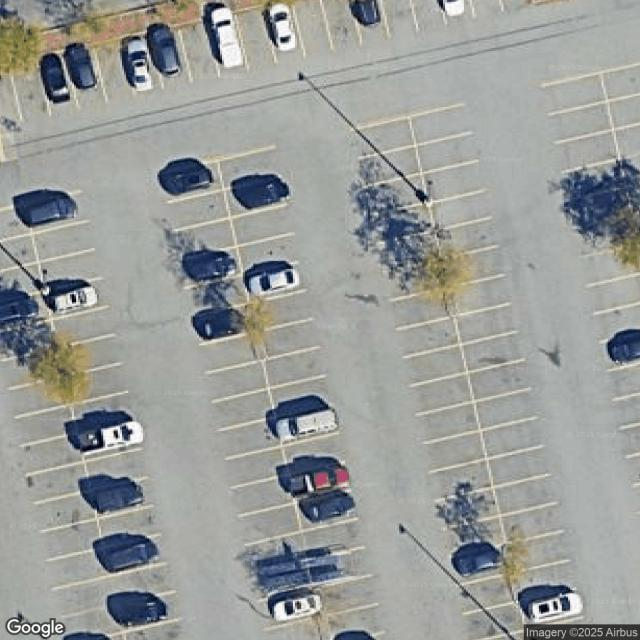car: (77, 420, 145, 456), (288, 463, 350, 501), (208, 6, 244, 70), (527, 590, 586, 628), (276, 407, 338, 443), (105, 537, 158, 574), (233, 175, 286, 211), (147, 22, 182, 76), (245, 267, 302, 298), (65, 43, 100, 93), (302, 491, 353, 525), (26, 194, 78, 227), (195, 307, 244, 342), (453, 545, 502, 579), (39, 56, 72, 105), (187, 250, 236, 282), (95, 481, 144, 513), (165, 165, 212, 198), (272, 594, 323, 624), (267, 3, 297, 52), (52, 284, 100, 313), (128, 36, 153, 91), (123, 600, 168, 628), (608, 330, 639, 366)
lot_boundary: (0, 0, 638, 639)
objects: (241, 519, 371, 599)
stall: (218, 145, 282, 191), (159, 159, 223, 205), (231, 203, 296, 247), (171, 218, 236, 261), (184, 275, 249, 318), (250, 290, 315, 333), (217, 417, 282, 460), (270, 376, 335, 419), (211, 388, 276, 431), (204, 360, 269, 403), (242, 261, 307, 304), (223, 446, 288, 489), (256, 318, 321, 361), (197, 332, 262, 375), (312, 574, 377, 617), (295, 489, 360, 532), (32, 220, 95, 264), (112, 562, 175, 606), (72, 392, 135, 436), (41, 518, 104, 562), (549, 100, 613, 143), (276, 405, 340, 448), (191, 304, 255, 347), (236, 502, 300, 545), (236, 232, 301, 274), (177, 246, 242, 288), (263, 347, 328, 389), (283, 433, 348, 475), (255, 586, 320, 628), (409, 103, 471, 147), (423, 160, 485, 204), (367, 173, 429, 217), (379, 231, 441, 275), (571, 188, 633, 232), (22, 432, 84, 476), (480, 417, 543, 460), (118, 591, 181, 634), (85, 448, 148, 491), (59, 335, 122, 378), (26, 191, 89, 234), (34, 490, 97, 533), (2, 347, 65, 390), (147, 27, 192, 87), (62, 44, 106, 105), (361, 144, 422, 188), (354, 116, 415, 160), (373, 202, 435, 245), (441, 247, 503, 290), (435, 218, 497, 261), (429, 190, 491, 233), (438, 487, 500, 530), (520, 590, 582, 633), (563, 159, 625, 202), (105, 534, 167, 577), (98, 506, 160, 549), (92, 477, 154, 520), (53, 306, 115, 349), (40, 250, 102, 293), (66, 364, 128, 407), (29, 461, 91, 504), (16, 405, 78, 448), (57, 577, 119, 620), (49, 549, 111, 592), (8, 377, 70, 420), (47, 277, 109, 320), (225, 177, 290, 218), (486, 446, 550, 487), (166, 190, 230, 231), (416, 132, 477, 175), (386, 260, 447, 303), (507, 531, 568, 574), (557, 130, 618, 173), (461, 331, 523, 373), (474, 389, 536, 431), (468, 360, 530, 402), (544, 74, 606, 116), (397, 317, 460, 358), (430, 460, 493, 501), (513, 561, 576, 602), (231, 475, 294, 516), (579, 216, 639, 259), (455, 303, 516, 345), (412, 373, 473, 415), (494, 474, 555, 516), (404, 344, 466, 385), (447, 276, 509, 317), (288, 463, 353, 502), (417, 404, 480, 444), (36, 52, 77, 113), (118, 32, 159, 93), (445, 515, 506, 556), (449, 546, 511, 586), (262, 2, 304, 61), (425, 430, 484, 472), (458, 572, 517, 614), (204, 17, 248, 73), (91, 38, 131, 99), (502, 503, 561, 544), (236, 8, 275, 69), (0, 319, 58, 360), (80, 421, 140, 460), (11, 61, 49, 122), (179, 19, 217, 80), (391, 291, 452, 329), (584, 244, 639, 285), (465, 601, 524, 639), (290, 0, 331, 54), (320, 605, 385, 639), (589, 273, 639, 315), (1, 292, 51, 333), (63, 606, 123, 639), (322, 0, 363, 47), (2, 262, 45, 304), (597, 300, 639, 342), (350, 0, 390, 42), (260, 616, 326, 639), (602, 331, 639, 371), (603, 64, 639, 101), (380, 0, 416, 34), (0, 203, 32, 241), (609, 361, 639, 400), (609, 93, 639, 131), (613, 123, 639, 159)
